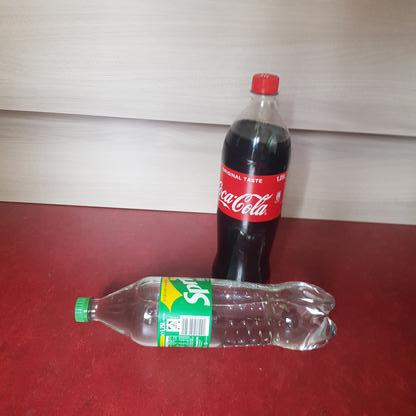coca-cola: (212, 71, 293, 292)
